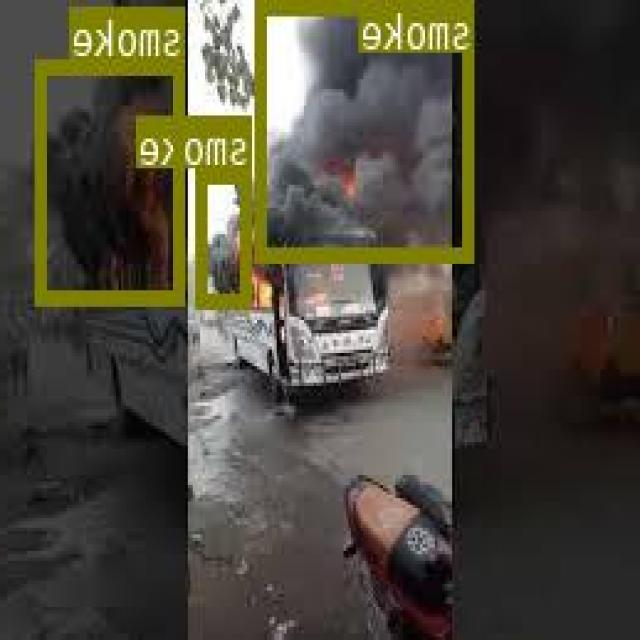smoke: (257, 0, 477, 257), (38, 59, 186, 303), (200, 167, 253, 306)
